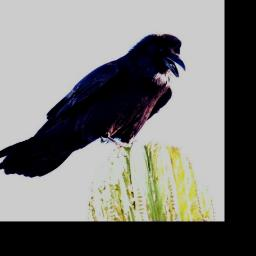Crow: (0, 33, 186, 178)
